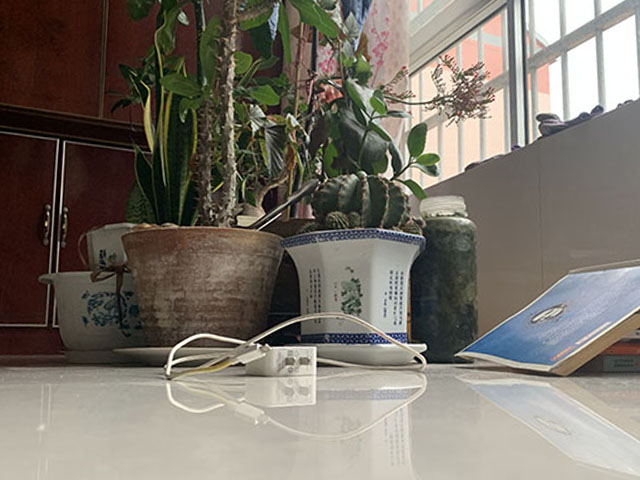book: (448, 259, 640, 377)
cabinet: (1, 123, 147, 358)
wire: (162, 307, 429, 381)
